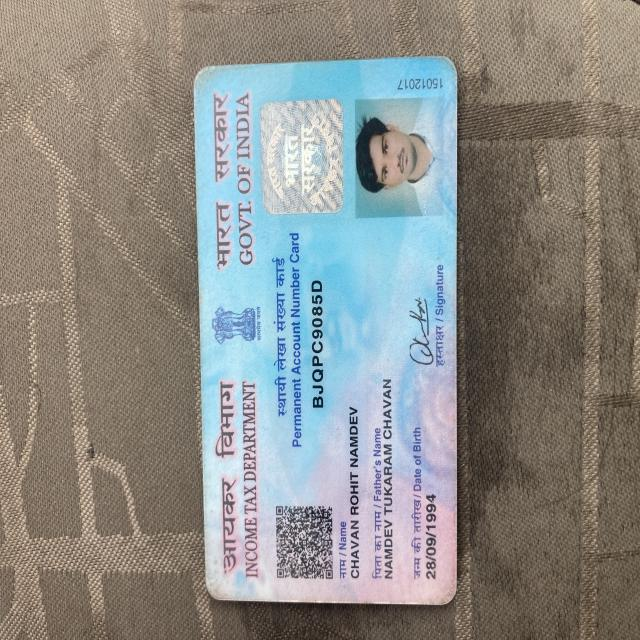pan_card: (29, 262, 437, 606)
